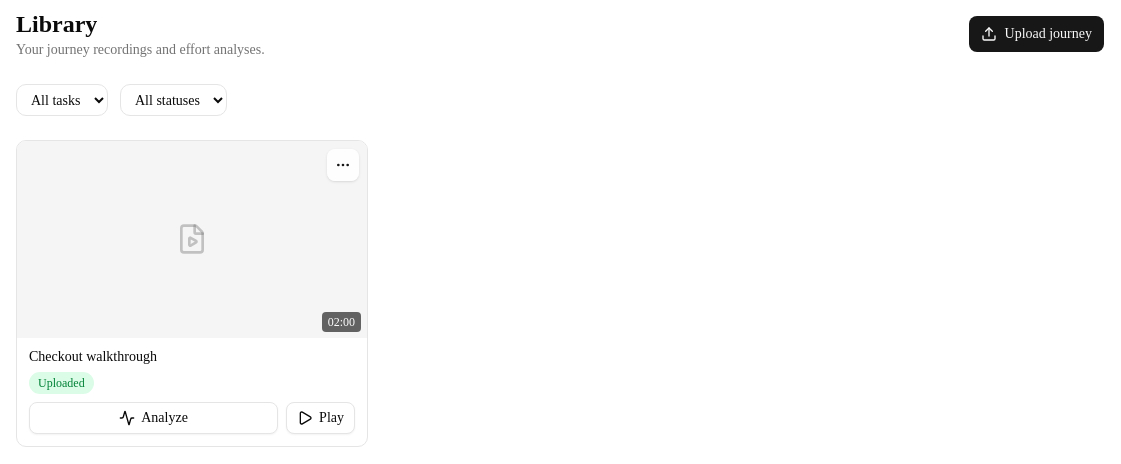
Test: analyzing from the library › shows progress as an overlay on the card instead of navigating away
The width and height of the screenshot is (1121, 464).
Click the button "Analyze": click(154, 418) [29,402,278,434]
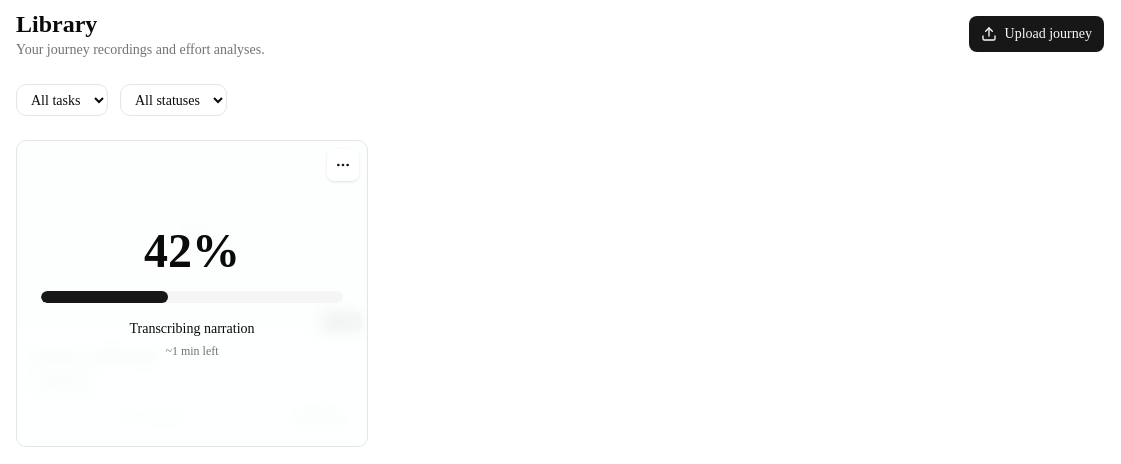
Now the text "42%" is shown, box [144,227,240,275]
Now the text "Transcribing narration" is shown, box [130,319,255,339]
